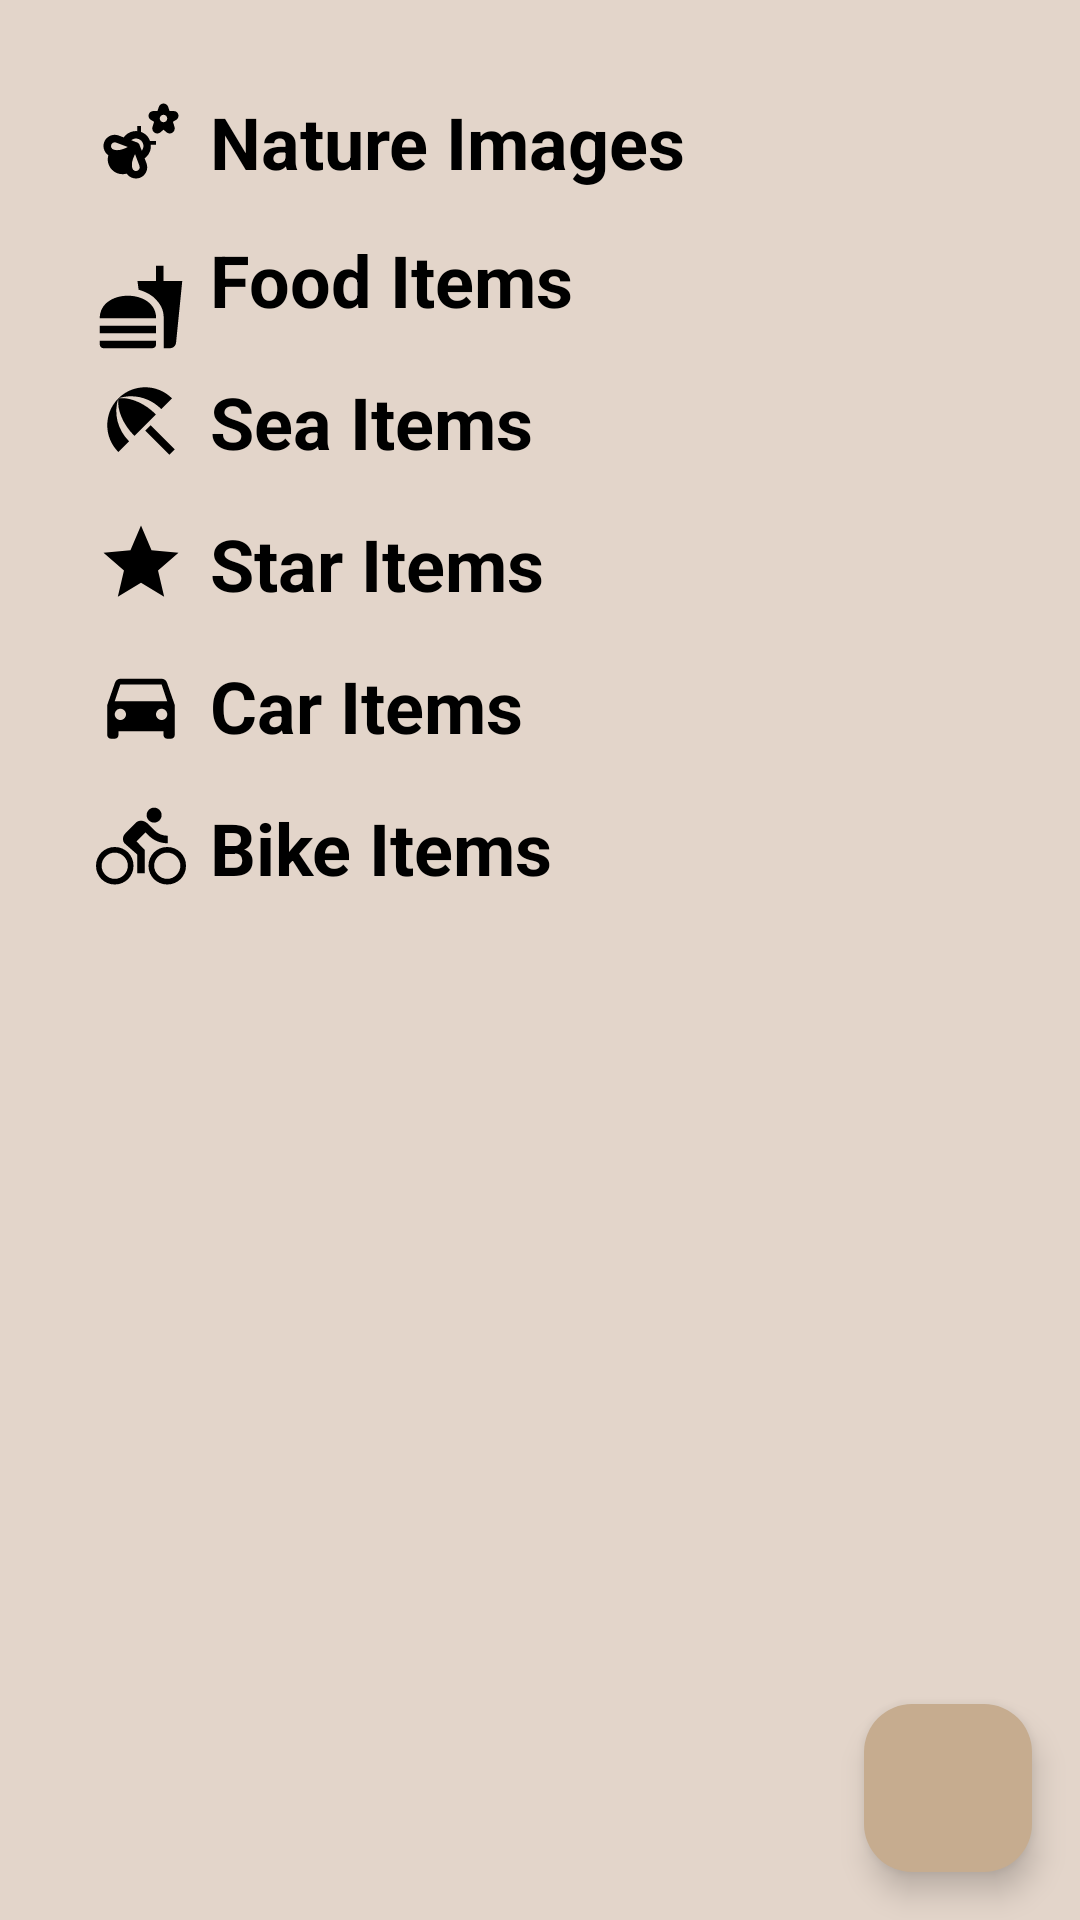

Where icons sit on this 1080px×1920px app screen, as {"left": x1, "top": y1, "right": x2, "bottom": y2}:
beach access: {"left": 107, "top": 387, "right": 175, "bottom": 455}
directions bike: {"left": 96, "top": 807, "right": 186, "bottom": 885}
directions car: {"left": 107, "top": 678, "right": 175, "bottom": 739}
emoji nature: {"left": 103, "top": 103, "right": 179, "bottom": 179}
fastfood: {"left": 99, "top": 265, "right": 183, "bottom": 349}
